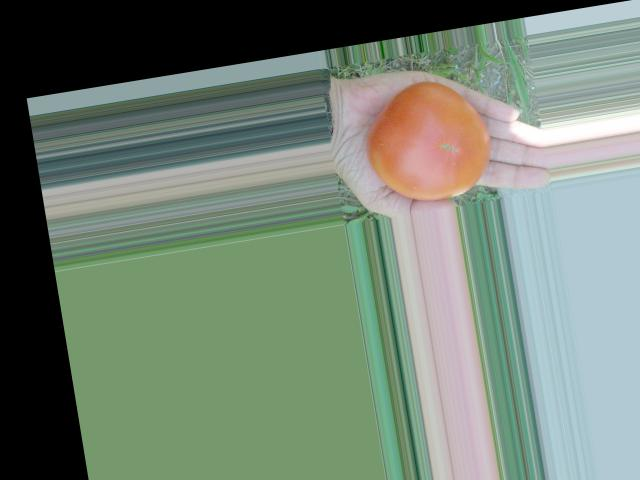tomato: (359, 72, 498, 209)
